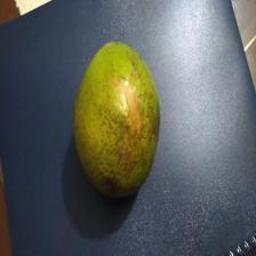Orange Semifresh: (65, 39, 162, 197)
